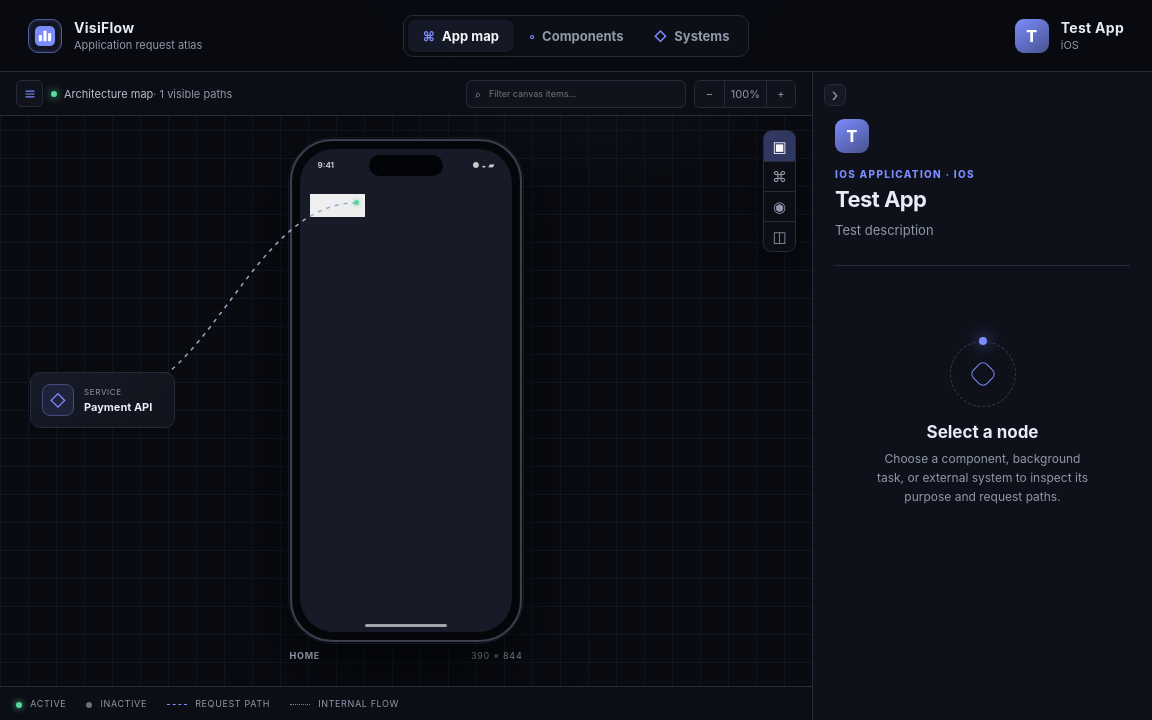
Test: VisiFlow › keeps collapsed view controls on the left and filters canvas nodes by search
Expected: the field labelled "Scenario" is not shown
Click the button named "Expand view filters" at (30, 94), box [16,80,43,107]
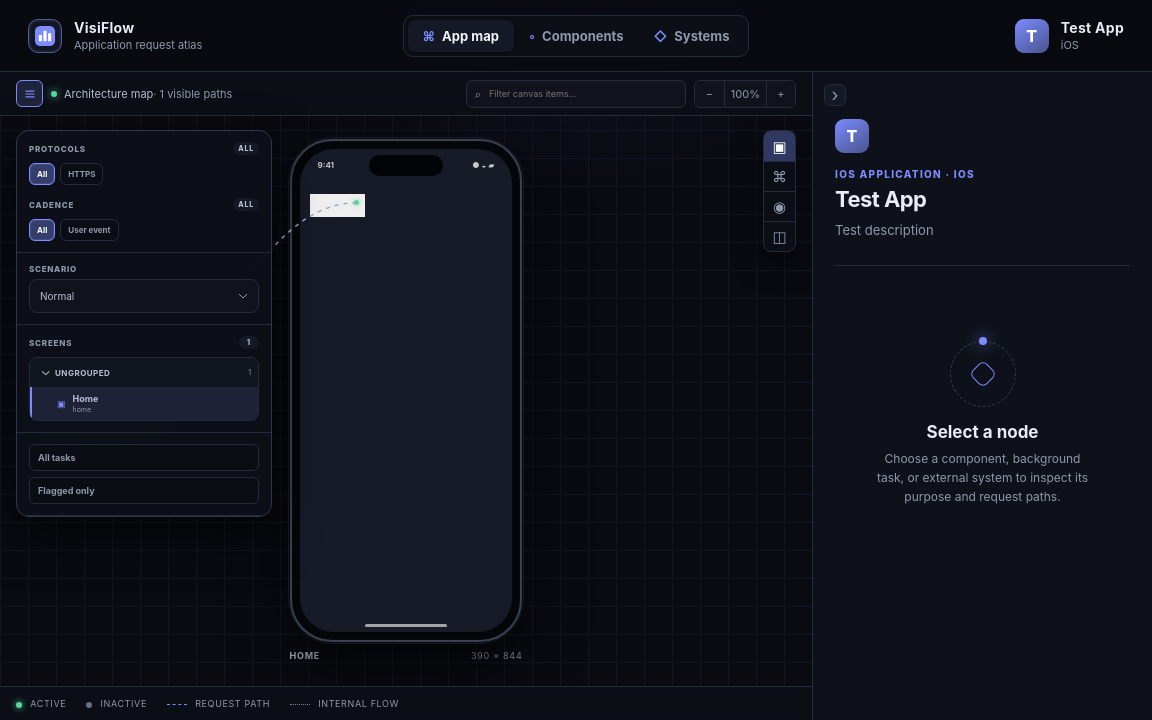
Expected: the heading "Select a node" is shown, [926,422,1038,442]
Type "Payment API" into the field named "Filter canvas items" at (583, 94), box [487,87,680,100]
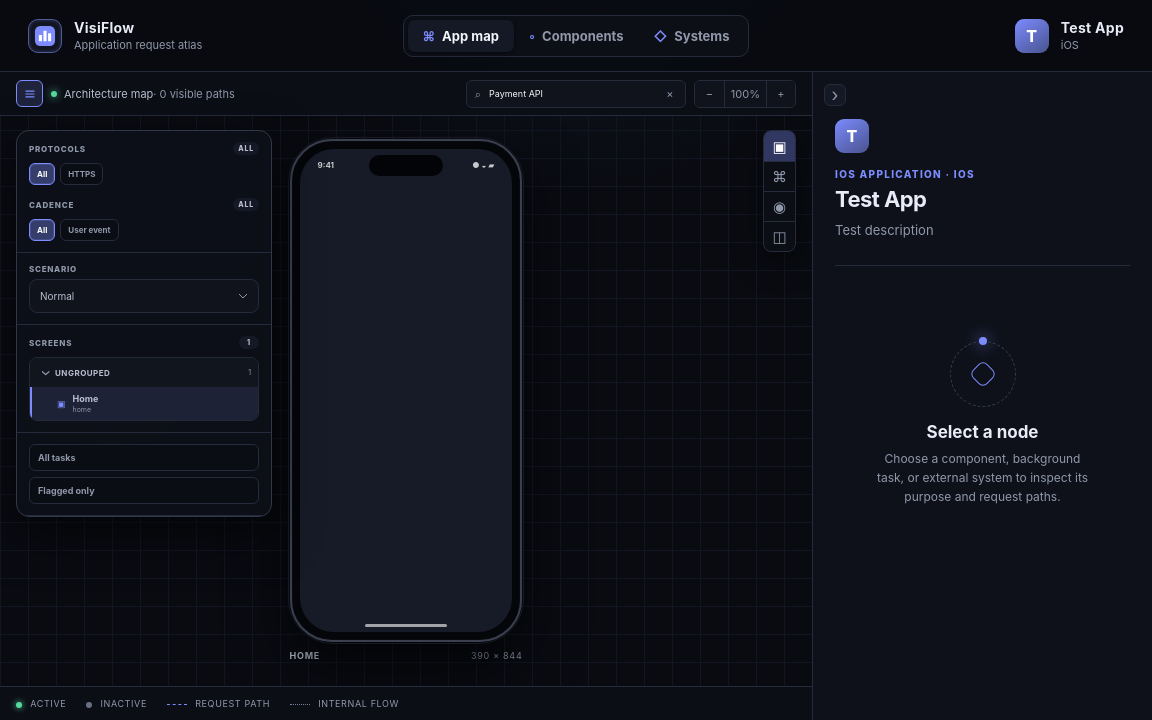
Expected: the button "◇ Service Payment API" is shown, [30,372,175,428]
Replace the text in the field named "Filter canvas items" with "Pay button" at (570, 94), box [487,87,654,100]
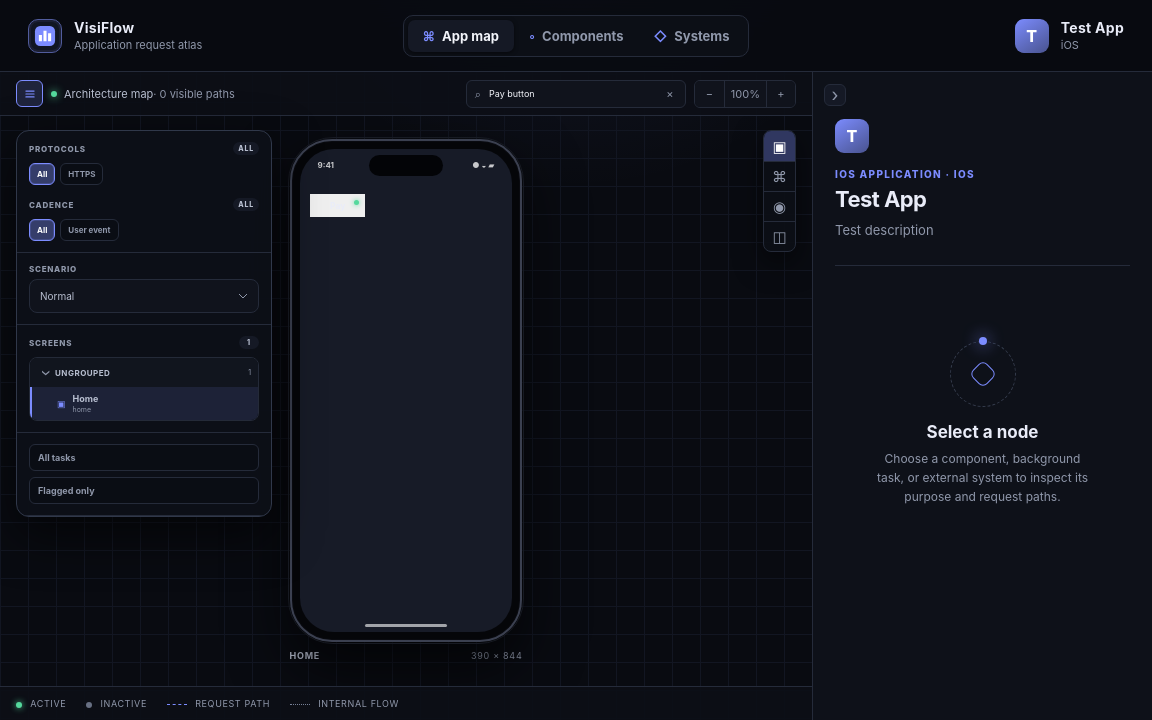
Expected: the button with aria-label "Pay button, active" is shown, [310,194,365,217]
Expected: the button "Payment API" is not shown
Click the button named "Clear canvas search" at (670, 94), box [660,84,680,104]
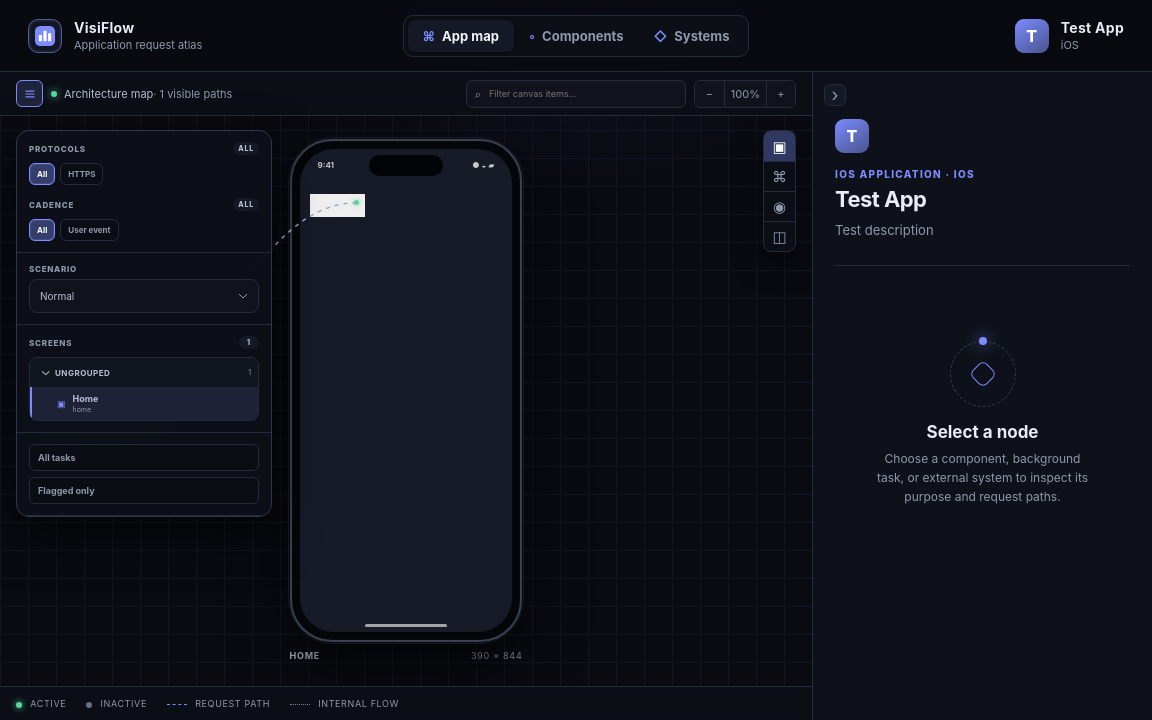
Expected: the button "◇ Service Payment API" is shown, [30,372,175,428]
Result: the field named "Filter canvas items" is empty at [487,87,680,100]
